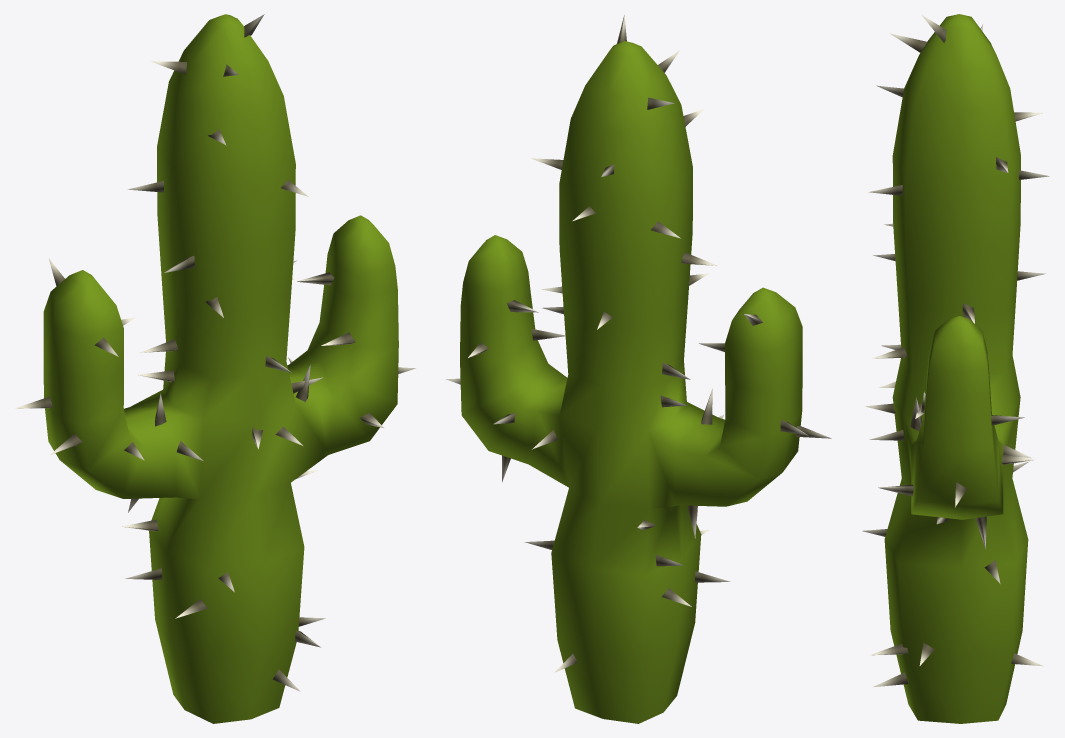
The model's file is cactus.glb.
3 renders of one model, left to right at view 1: azimuth 30°, elevation 25°; view 2: azimuth 150°, elevation 25°; view 3: azimuth 270°, elevation 25°, orthographic. The views are drawn at different scales.
Visible parts, largest first — view 1: Object_7; view 2: Object_7; view 3: Object_7.
Boxes of the visible parts, x1,y1,x2,y2 form: Object_7: [14, 14, 415, 723]; Object_7: [445, 14, 831, 723]; Object_7: [862, 14, 1049, 723].
Bounding box in the file's own units: 30.81 × 52.5 × 12.88.
Materials: 1 (1 with a texture image).
